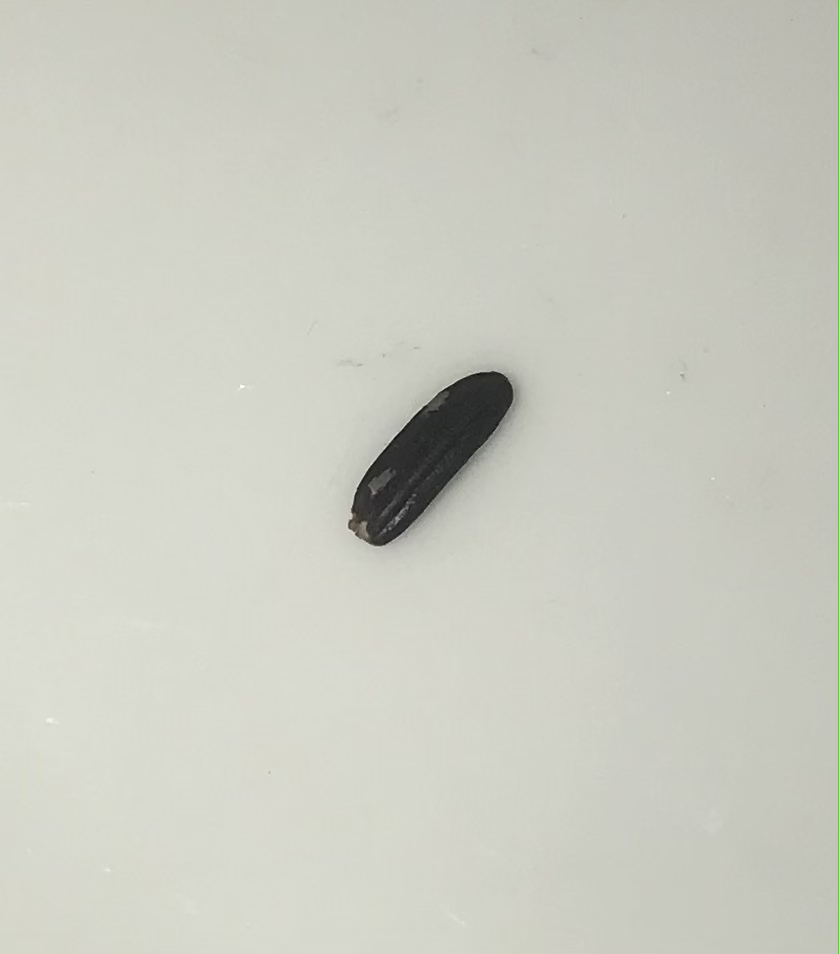Gao Nep Cam: (343, 355, 531, 548)
